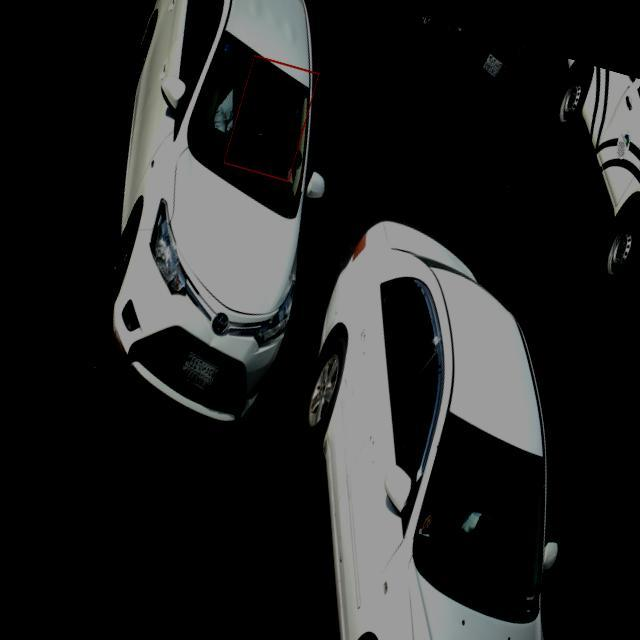windshield: (400, 404, 555, 626), (180, 25, 313, 222)
